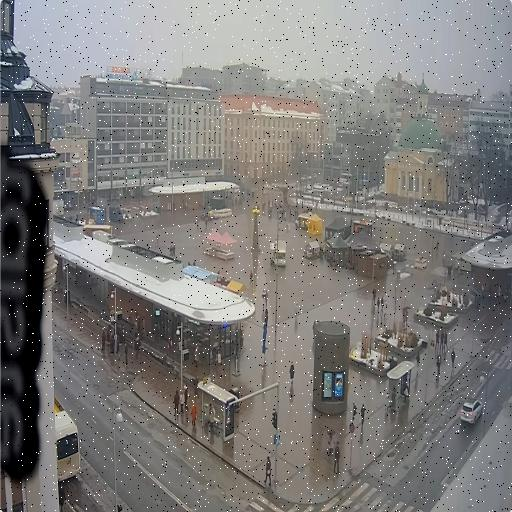bus: (54, 394, 82, 480)
